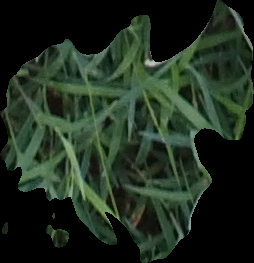grass: (1, 1, 253, 262)
